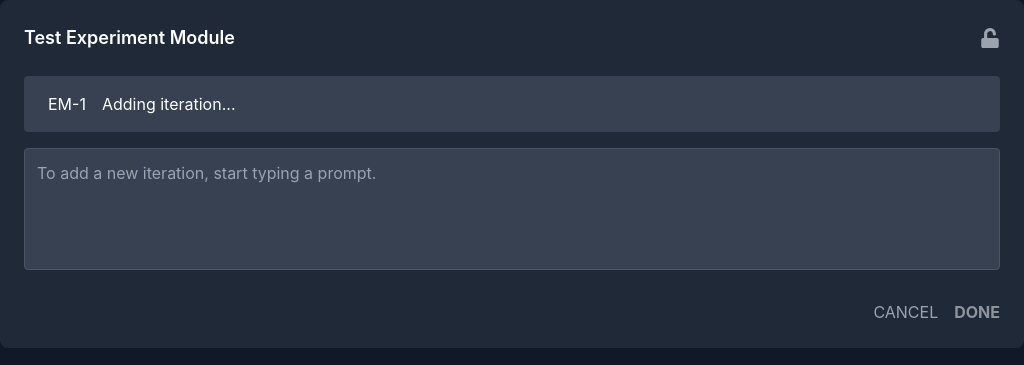
Test: ExperimentModule › allows adding new iteration
The width and height of the screenshot is (1024, 365).
Type "Test iteration" into the text box with placeholder "To add a new iteration, start typing a prompt.".
click(512, 209); type("Test iteration")  # box [24,148,1000,270]
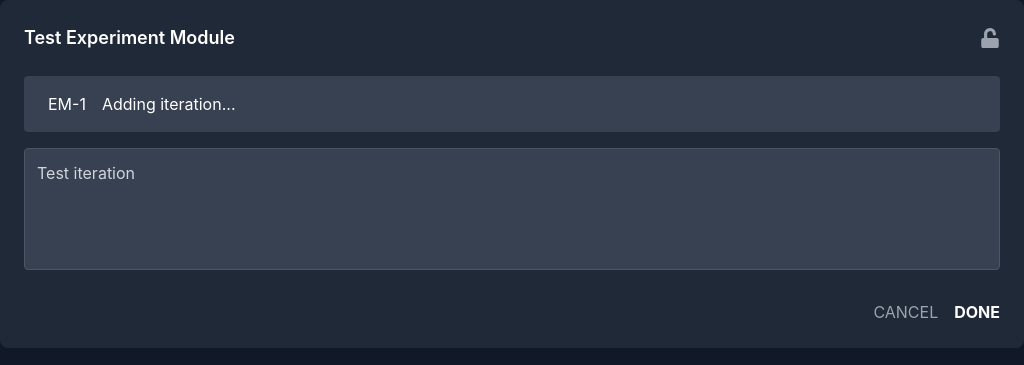
Click the button "DONE".
click(977, 312)  # box [954,300,1000,324]
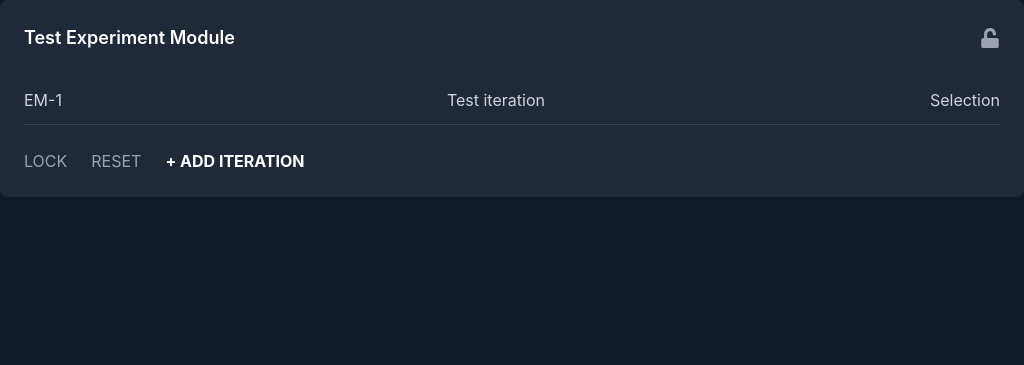
Now the text "Test iteration" is shown, box [447,88,545,112]
